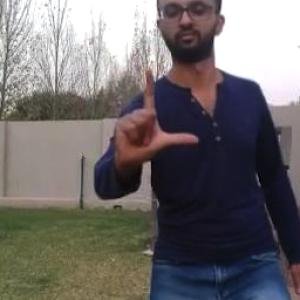land_hand: (107, 59, 204, 178)
